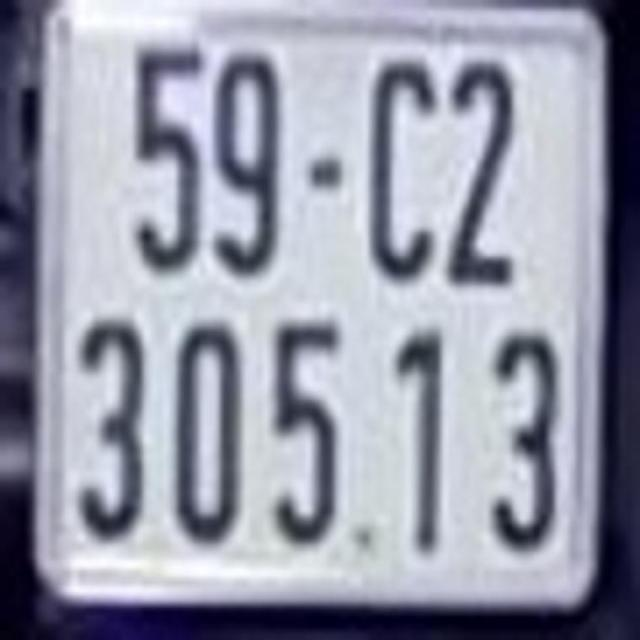0: (170, 319, 240, 540)
1: (386, 316, 456, 558)
2: (442, 52, 515, 294)
3: (489, 320, 564, 562), (76, 308, 144, 542)
5: (122, 36, 205, 274), (268, 310, 343, 550)
9: (209, 47, 283, 276)
C: (361, 48, 442, 277)
